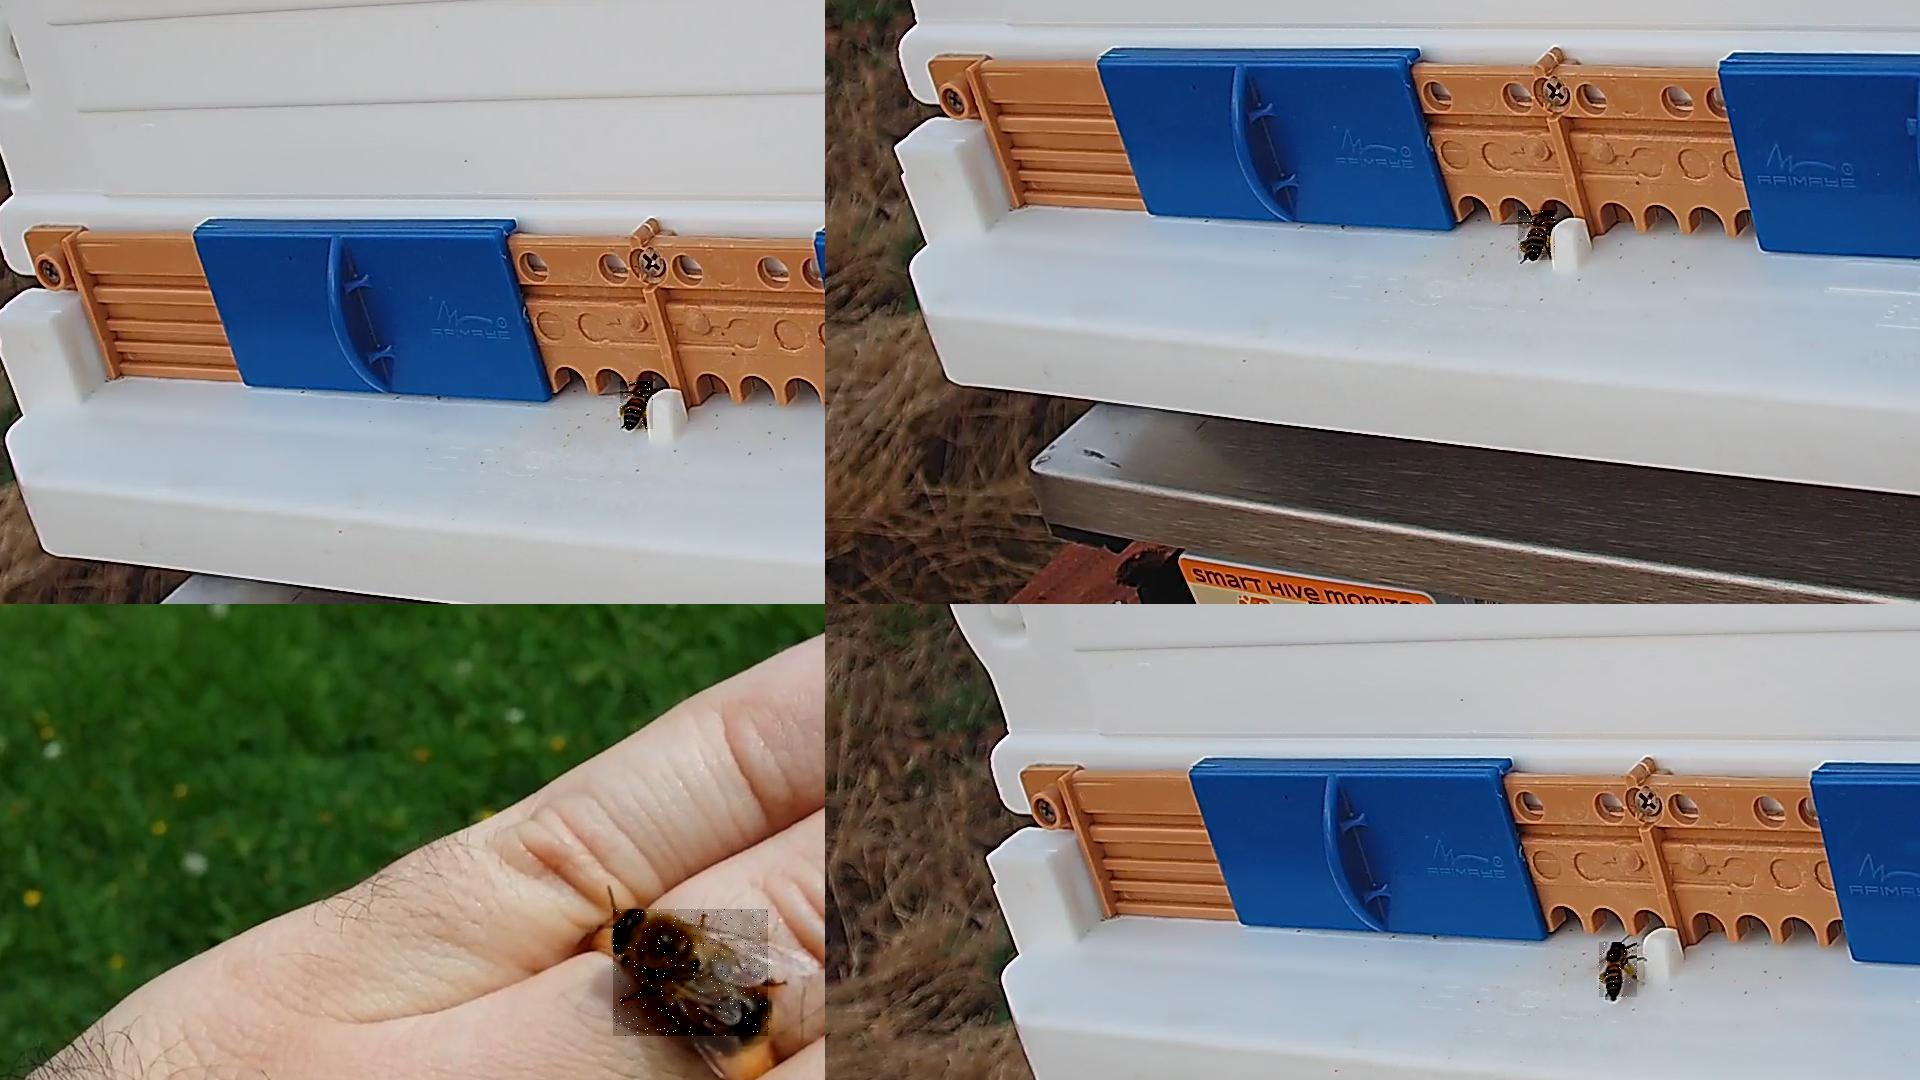drone: (615, 910, 771, 1038)
pollenbee: (1600, 943, 1638, 1001), (1518, 210, 1556, 261), (620, 381, 654, 430)
